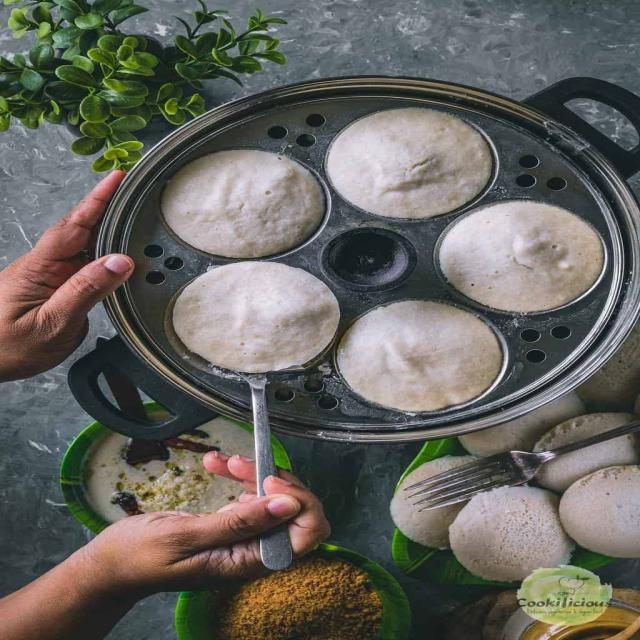chutney: (98, 433, 234, 515)
idli: (438, 201, 614, 313), (167, 260, 339, 372), (337, 300, 505, 414), (326, 108, 490, 216), (161, 150, 329, 255), (443, 486, 585, 590), (390, 455, 532, 551), (562, 466, 640, 557)
